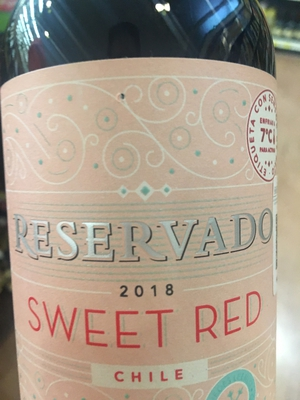reservado sweet red: (4, 8, 284, 400)
